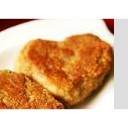cutlet: (20, 36, 112, 104)
